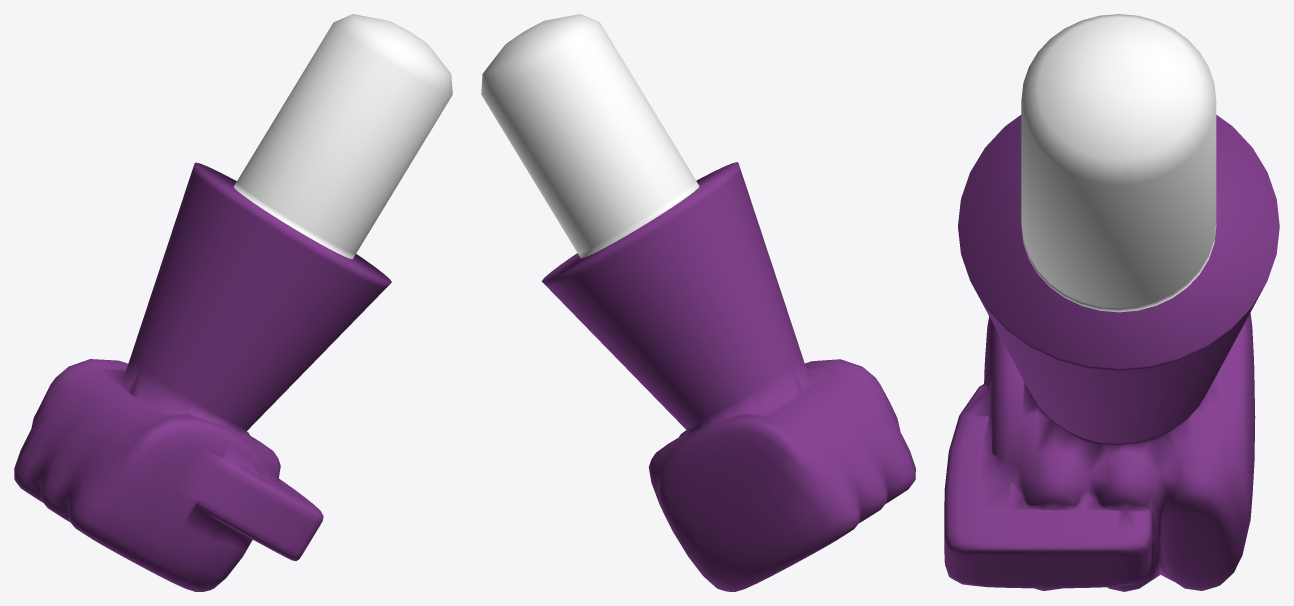
The model's file is DexterArm.obj.
3 views of the same model, side by side, from view 1: azimuth 30°, elevation 25°; view 2: azimuth 150°, elevation 25°; view 3: azimuth 270°, elevation 25° (orthographic). The views are drawn at different scales.
Parts seen in each view (by area): view 1: Cylinder; view 2: Cylinder; view 3: Cylinder.
Boxes of the visible parts, x1,y1,x2,y2 form: Cylinder: (14,14,452,591); Cylinder: (481,14,915,591); Cylinder: (944,14,1279,591).
Size of the model in its own units: 0.6008 by 0.7268 by 0.3157.
